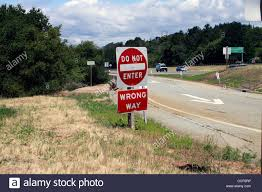doNotEnter: (115, 45, 149, 87)
